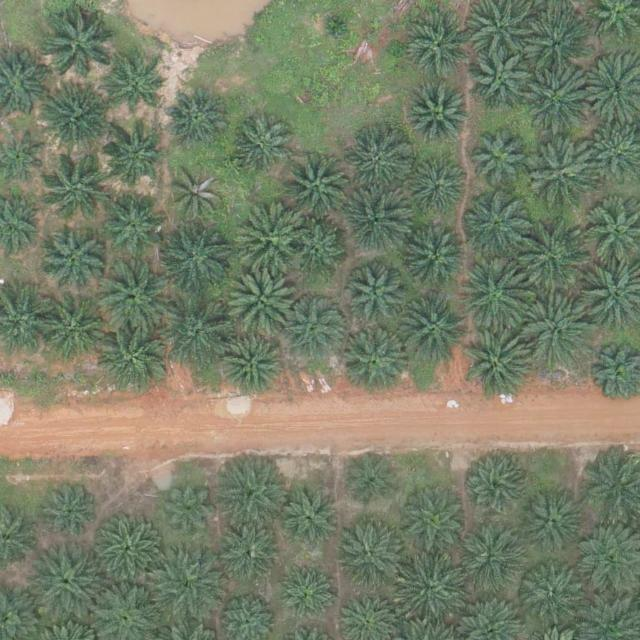Kelapa_Sawit: (395, 485, 465, 556), (215, 453, 285, 524), (524, 63, 594, 134), (520, 298, 590, 369), (456, 261, 526, 332), (460, 188, 530, 259), (341, 324, 411, 395), (395, 294, 465, 365), (43, 150, 113, 221), (153, 552, 223, 622), (89, 515, 159, 585), (34, 545, 104, 615), (395, 557, 465, 627), (330, 519, 400, 589), (527, 136, 597, 206), (516, 219, 586, 289), (463, 330, 533, 400), (340, 185, 410, 255), (281, 150, 351, 220), (233, 202, 303, 272), (225, 264, 295, 334), (163, 298, 233, 368), (161, 222, 231, 292), (97, 261, 167, 331), (98, 324, 168, 394), (35, 297, 105, 367), (37, 85, 107, 155), (44, 5, 114, 75), (38, 479, 100, 542), (522, 487, 584, 550), (522, 568, 584, 631), (217, 523, 279, 586), (468, 129, 530, 192), (469, 48, 531, 111), (344, 267, 406, 330), (282, 294, 344, 357), (229, 114, 291, 177), (101, 126, 163, 189), (40, 228, 102, 291), (456, 527, 518, 589), (463, 454, 525, 516), (274, 560, 336, 622), (279, 482, 341, 544), (525, 12, 587, 74), (407, 17, 469, 79), (407, 85, 469, 147), (407, 157, 469, 219), (405, 230, 467, 292), (346, 132, 408, 194), (219, 334, 281, 396), (164, 85, 226, 147), (101, 191, 163, 253), (344, 451, 399, 506), (289, 222, 344, 277), (163, 481, 217, 536), (170, 168, 224, 223), (108, 61, 162, 116), (318, 9, 349, 40)
